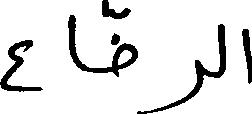X: (159, 55, 204, 113), (0, 35, 31, 96), (114, 3, 135, 81), (242, 24, 251, 88), (70, 10, 76, 70), (219, 19, 224, 82)
